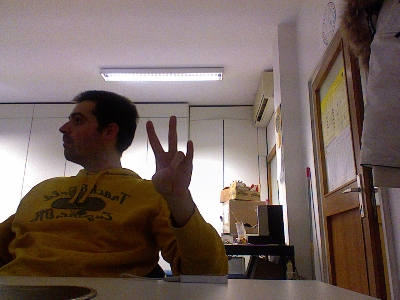观音: (143, 113, 195, 196)
